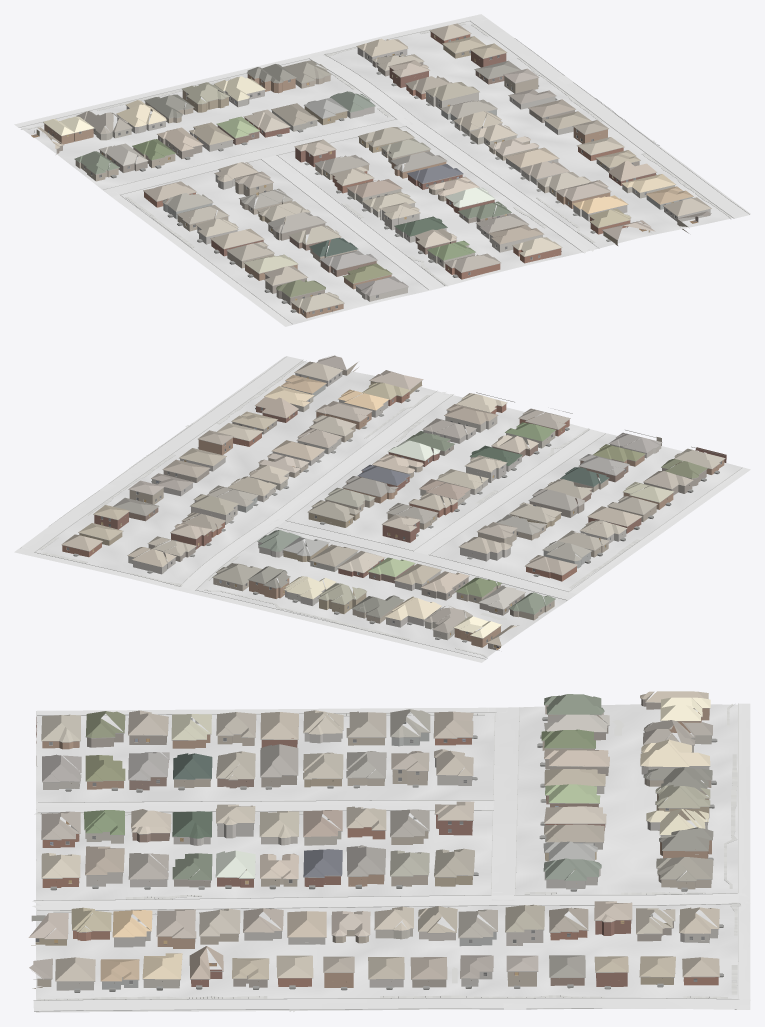
The picture shows the model from 3 angles, top to bottom: view 1: azimuth 30°, elevation 25°; view 2: azimuth 150°, elevation 25°; view 3: azimuth 270°, elevation 25°; orthographic projection. The views are drawn at different scales.
Visible parts, largest first — view 1: roof, ground, concrete, wall, detail, wall_stucco, wall_stone, curb, walk, glass; view 2: roof, ground, concrete, wall, detail, wall_stone, curb, wall_stucco, walk; view 3: roof, ground, concrete, wall, detail, wall_stucco, curb, wall_stone, walk.
Boxes of the visible parts, bbox=[...] form: roof: bbox=[37, 23, 711, 311]; ground: bbox=[20, 21, 750, 326]; concrete: bbox=[14, 14, 749, 326]; wall: bbox=[44, 32, 688, 318]; detail: bbox=[33, 30, 711, 313]; wall_stucco: bbox=[93, 75, 692, 301]; wall_stone: bbox=[117, 48, 710, 244]; curb: bbox=[18, 20, 749, 324]; walk: bbox=[21, 22, 731, 286]; glass: bbox=[48, 36, 680, 313]; roof: bbox=[61, 355, 725, 646]; ground: bbox=[35, 356, 749, 658]; concrete: bbox=[14, 356, 750, 662]; wall: bbox=[62, 362, 726, 650]; detail: bbox=[62, 360, 726, 647]; wall_stone: bbox=[128, 371, 626, 627]; curb: bbox=[34, 356, 742, 659]; wall_stucco: bbox=[191, 381, 661, 640]; walk: bbox=[39, 361, 639, 657]; roof: bbox=[28, 691, 719, 981]; ground: bbox=[36, 704, 737, 1012]; concrete: bbox=[32, 703, 750, 1010]; wall: bbox=[31, 699, 718, 988]; detail: bbox=[31, 698, 723, 992]; wall_stucco: bbox=[36, 731, 711, 989]; curb: bbox=[33, 703, 740, 1011]; wall_stone: bbox=[56, 733, 718, 990]; walk: bbox=[34, 704, 740, 1011].
Size of the model in its own units: 254 by 12.79 by 259.
